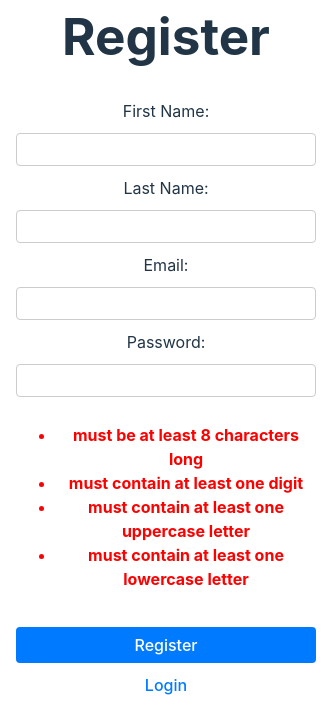
Test case: Register component › passworderrors dissappear after successfull password input
Type "Ajg65657h" into the password field named "pass" at (166, 380), box [16, 364, 316, 397]
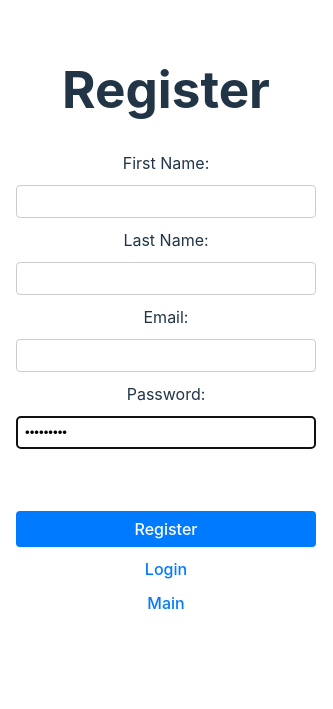
Expected: the list item labelled "passworderrors" is gone
